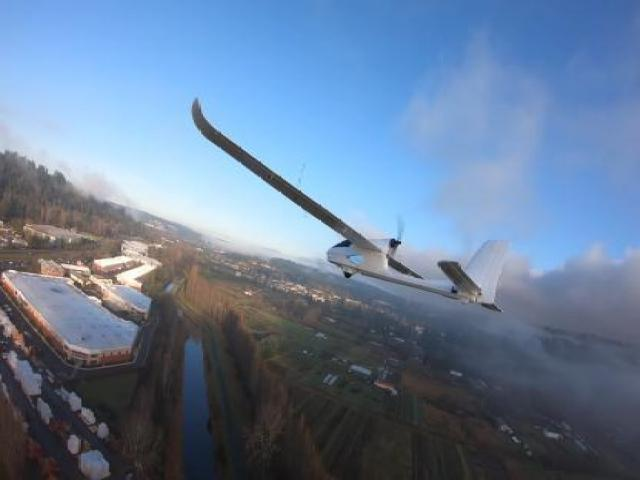uav: (181, 90, 514, 323)
